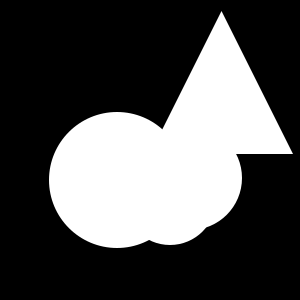rectangle: (49, 112, 185, 248), (138, 126, 242, 230), (124, 153, 216, 245)
triangle: (150, 11, 293, 154), (227, 80, 263, 116)
